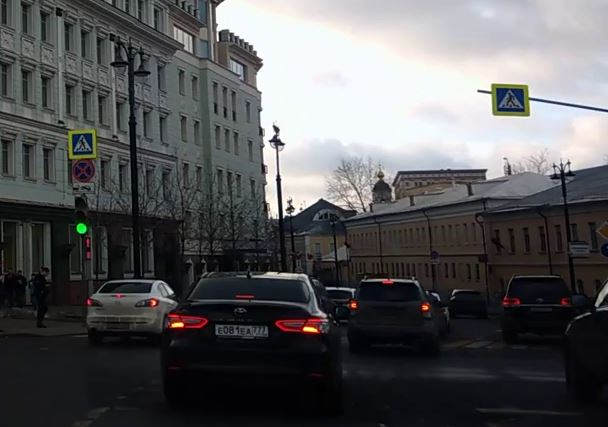Yaya Gecidi: (497, 89, 526, 110), (71, 134, 93, 154)
